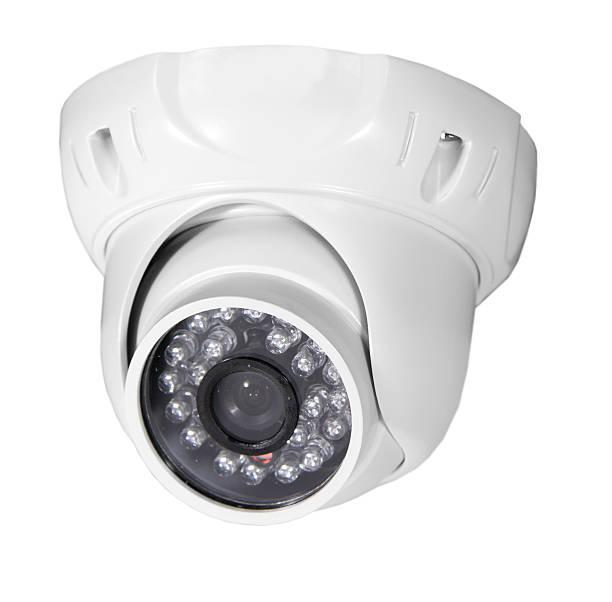camera: (42, 30, 545, 553)
